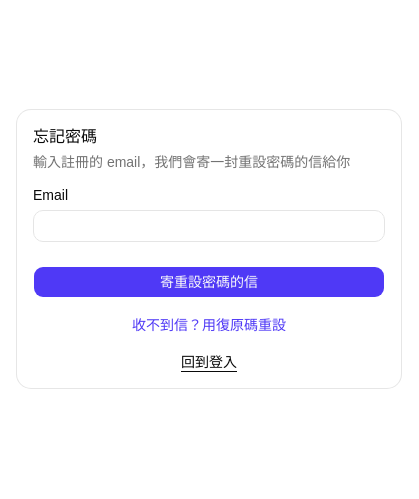
ForgotPasswordPage with a recovery code (用復原碼重設) › resets the password with the email and one code
The image size is (419, 499).
Click the button "收不到信？用復原碼重設" at coordinates (209, 325), box x1=33 y1=314 x2=385 y2=336
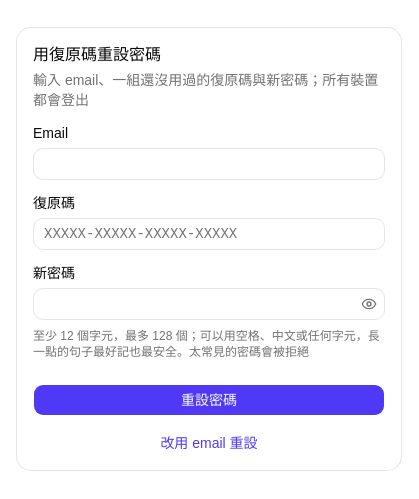
Type "a@example.com" into the field labelled "Email" at coordinates (209, 164), box x1=33 y1=148 x2=385 y2=180
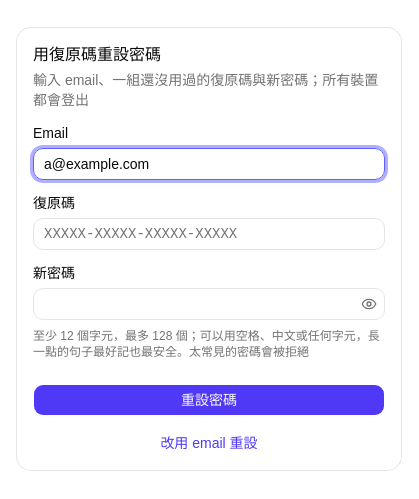
Type "aaaaa-bbbbb-ccccc-ddddd" into the field labelled "復原碼" at coordinates (209, 234), box x1=33 y1=218 x2=385 y2=250
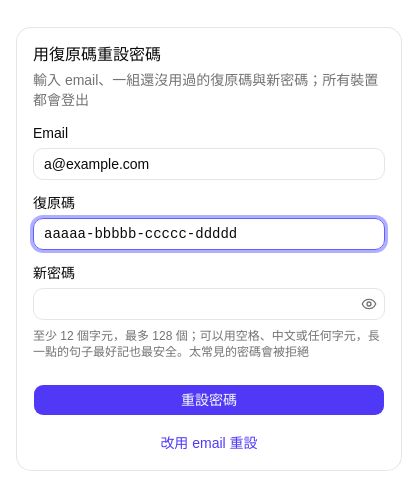
Type "a brand new password" into the password field labelled "新密碼" at coordinates (209, 304), box x1=33 y1=288 x2=385 y2=320
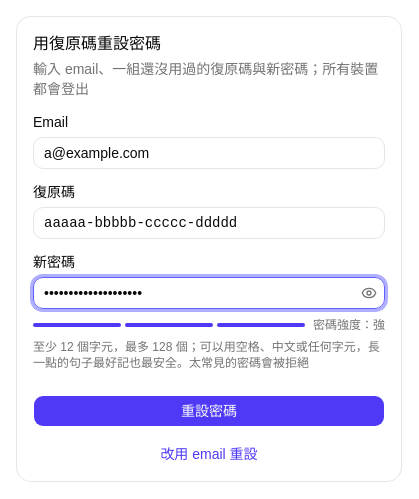
Click the button "重設密碼" at coordinates (209, 411), box x1=33 y1=395 x2=385 y2=427
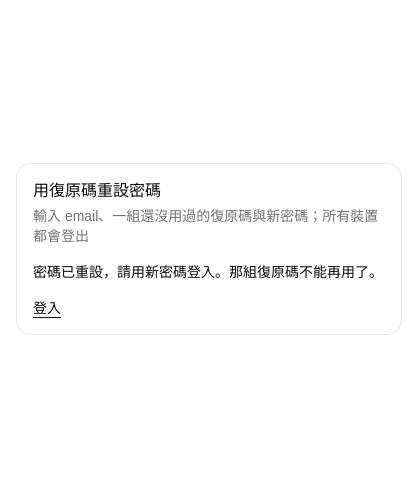
Now the message shows "密碼已重設，請用新密碼登入", box x1=33 y1=264 x2=383 y2=280
